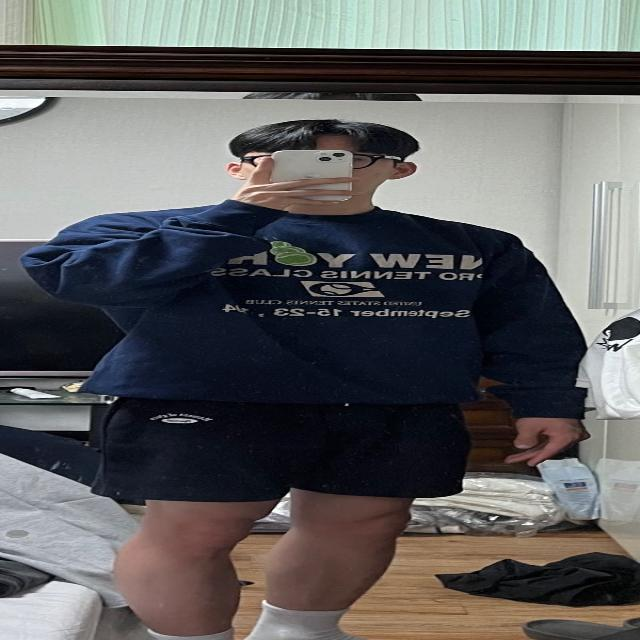mtm: (11, 196, 589, 422)
shortpants: (83, 401, 472, 507)
